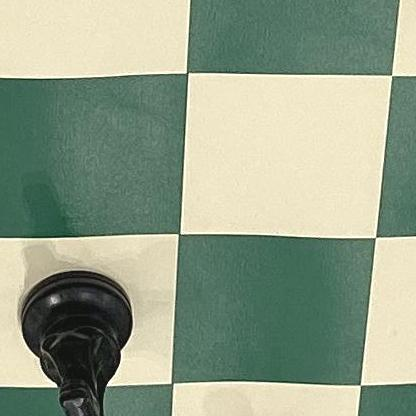black-knight: (19, 271, 144, 416)
